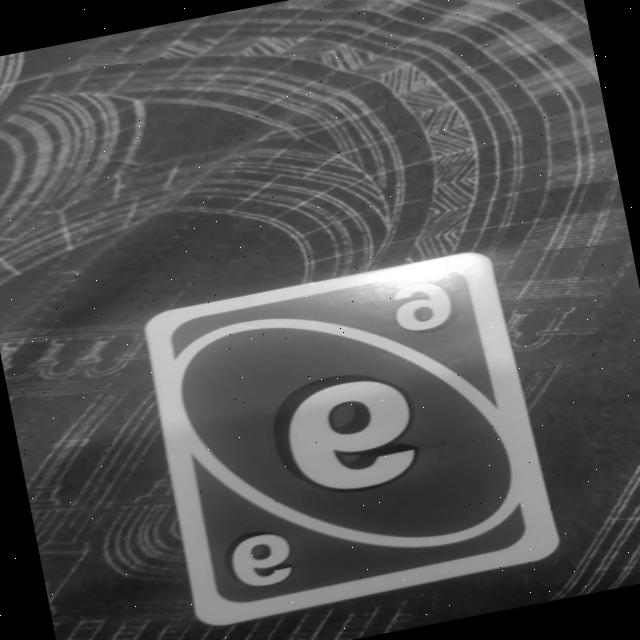card_9: (137, 244, 565, 630)
